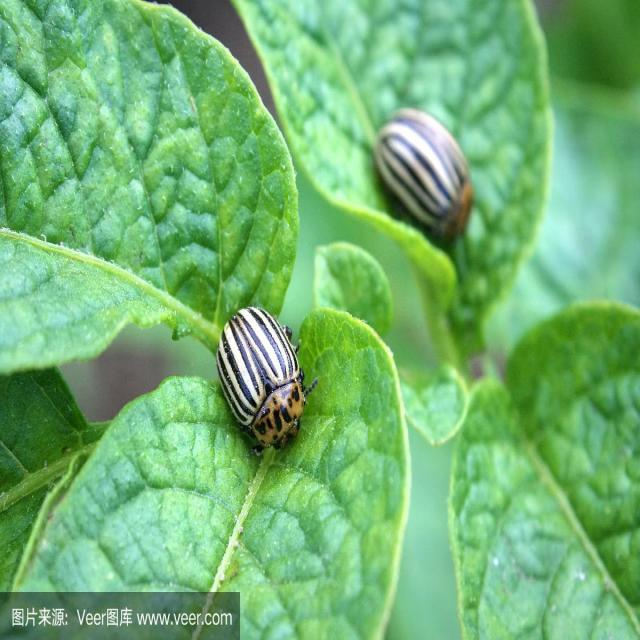ShuCaiHuaBanChong-Grown-: (208, 296, 335, 505), (360, 94, 471, 256)
